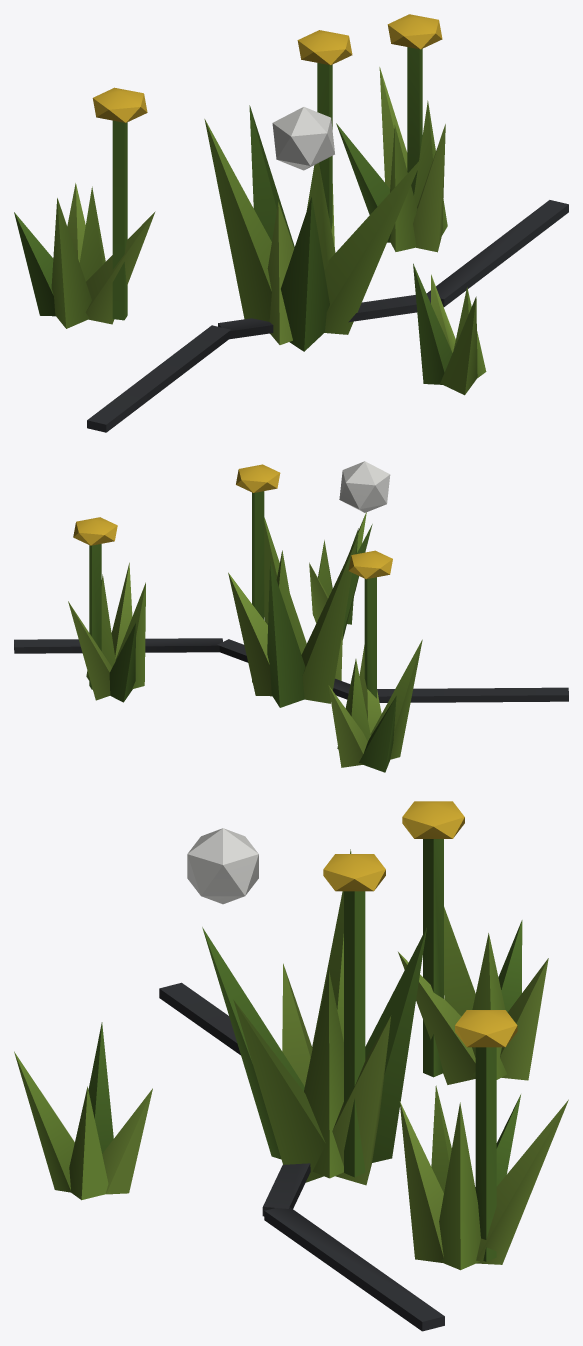
Rendered from p_st_weed.glb.
3 views of the same model, one above another, from view 1: azimuth 30°, elevation 25°; view 2: azimuth 150°, elevation 25°; view 3: azimuth 270°, elevation 25° (orthographic). The views are drawn at different scales.
Parts seen in each view (by area): view 1: body; view 2: body; view 3: body.
Boxes of the visible parts, x1,y1,x2,y2 form: body: (14, 14, 568, 432); body: (14, 461, 568, 772); body: (14, 801, 568, 1331).
Bounding box in the file's own units: 1.53 × 0.7018 × 1.05.
